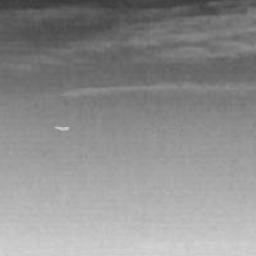Target: (54, 125, 71, 132)
